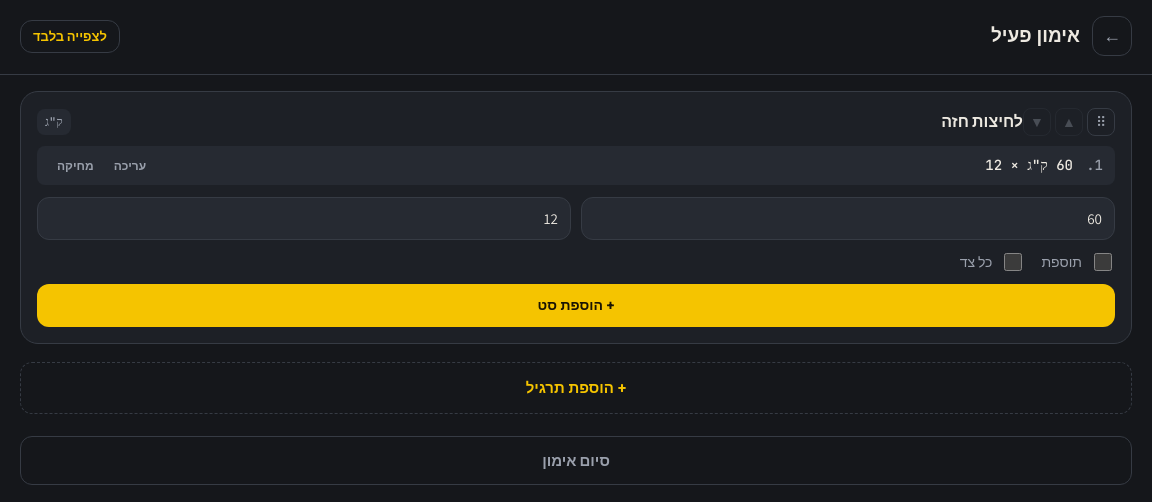
Test case: WorkoutPage › deletes an existing set
Expected: the text "60 ק\"ג × 12" is shown, top-left (985, 156), bottom-right (1073, 174)
Click the button with aria-label "מחיקת סט 1": (75, 166) top-left (49, 154), bottom-right (102, 177)
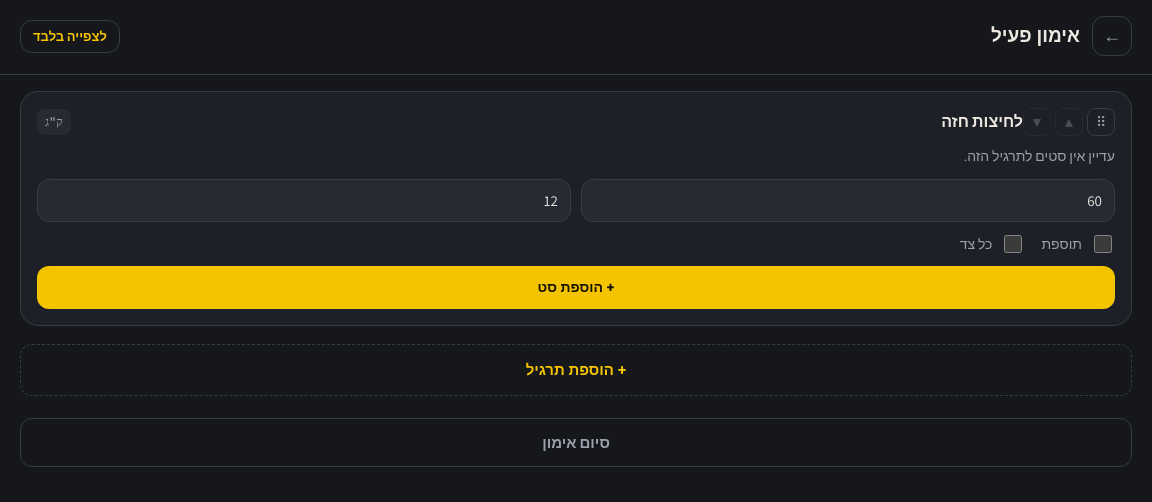
Expected: the text "60 ק\"ג × 12" is gone
Expected: the text "עדיין אין סטים לתרגיל הזה." is shown, top-left (964, 147), bottom-right (1115, 165)
